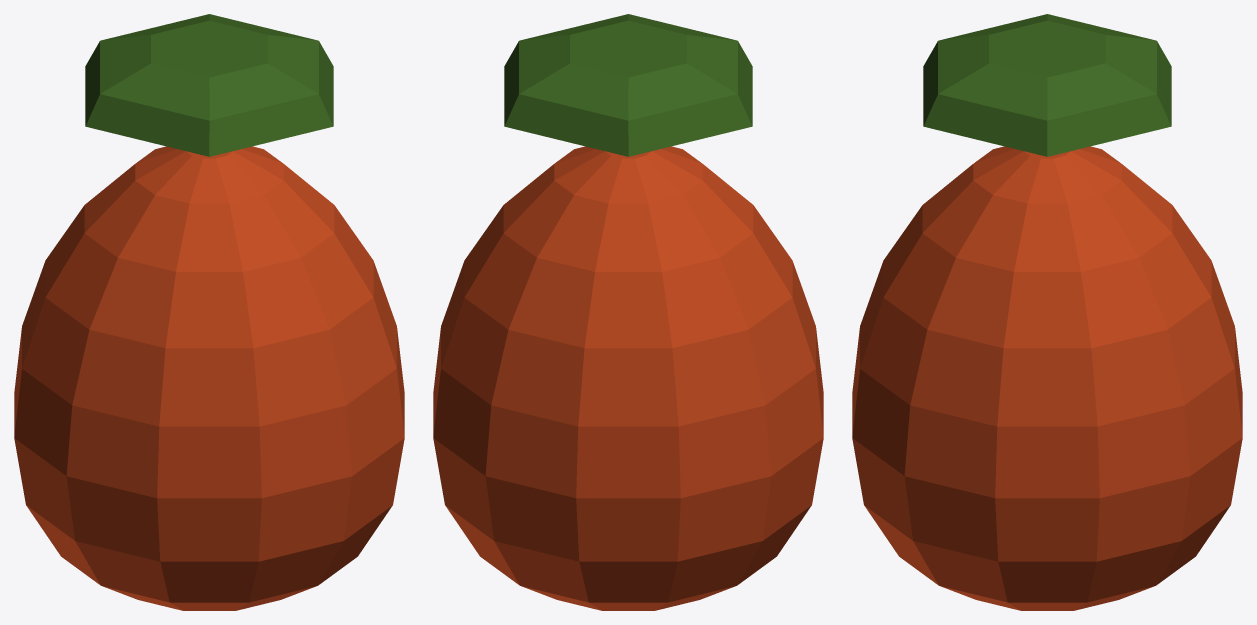
Rendered from SavannaAcacia.fbx.
3 renders of one model, left to right at view 1: azimuth 30°, elevation 25°; view 2: azimuth 150°, elevation 25°; view 3: azimuth 270°, elevation 25°, orthographic.
Parts seen in each view (by area): view 1: Body; view 2: Body; view 3: Body.
Part boxes in pixels (left/top/right/bottom): Body: left=14, top=14, right=404, bottom=610; Body: left=433, top=14, right=823, bottom=610; Body: left=852, top=14, right=1242, bottom=610.
Size of the model in its own units: 4.64 by 6.82 by 4.64.
